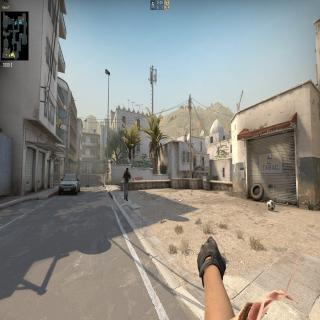T-Head: (126, 167, 129, 172)
